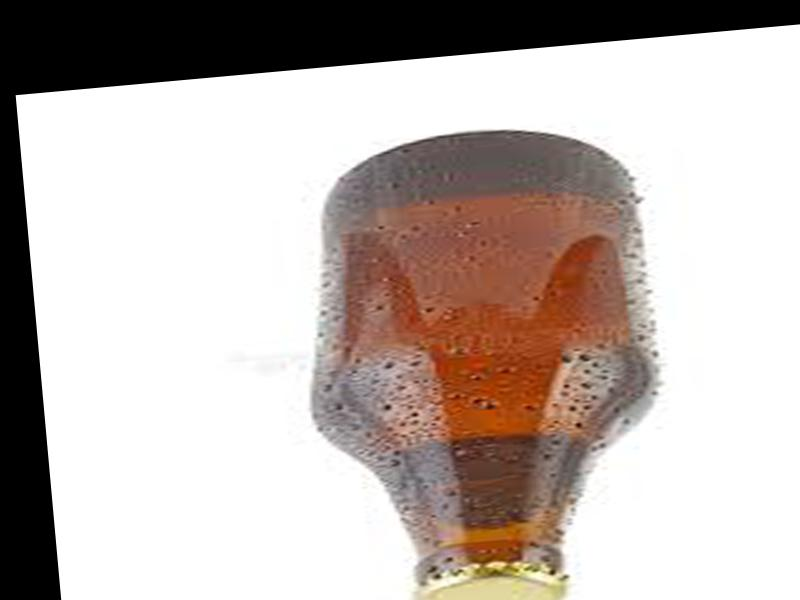Beer: (314, 120, 671, 600)
